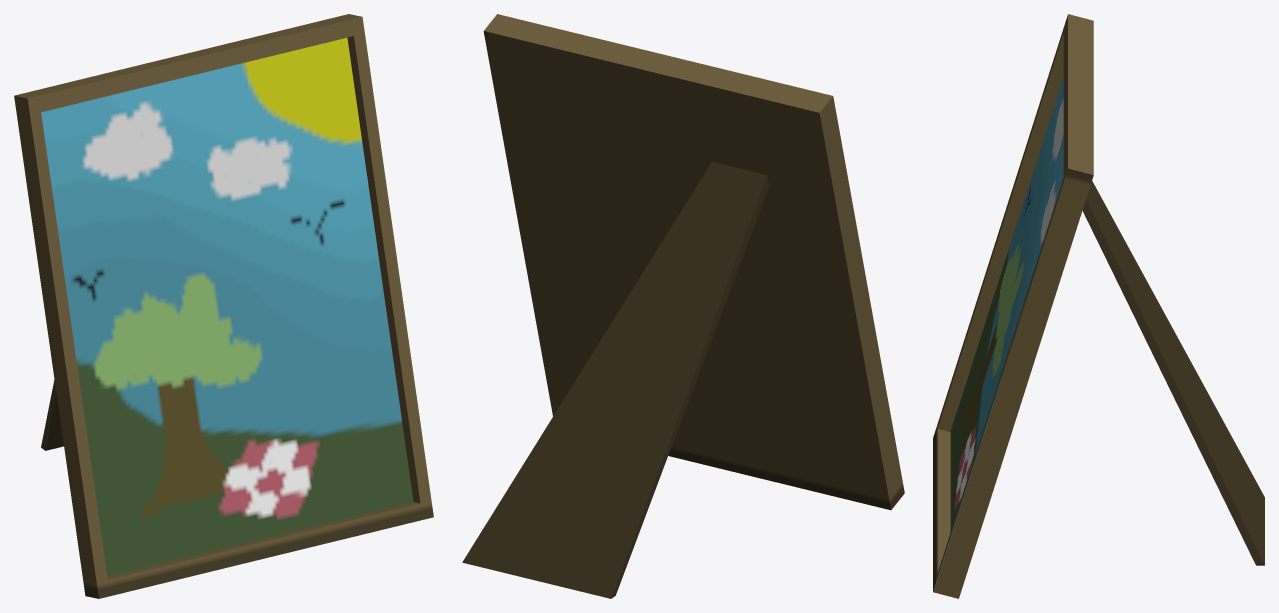
Rendered from Marco.fbx.
3 renders of one model, left to right at view 1: azimuth 30°, elevation 25°; view 2: azimuth 150°, elevation 25°; view 3: azimuth 270°, elevation 25°, orthographic. The views are drawn at different scales.
Parts seen in each view (by area): view 1: Marco; view 2: Marco; view 3: Marco.
Part boxes in pixels (box(x1,y1,x2,y2)): Marco: box(14, 14, 433, 598); Marco: box(462, 14, 904, 598); Marco: box(933, 14, 1264, 598).
Bounding box in the file's own units: 15.19 × 19.73 × 13.78.
